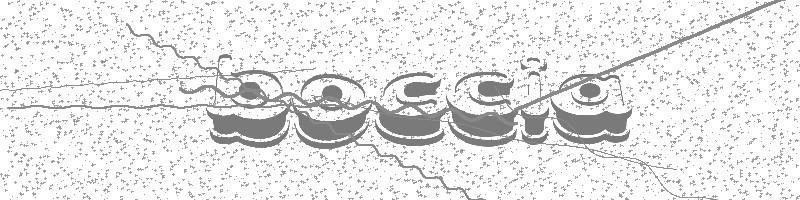a: (551, 72, 632, 146)
b: (204, 53, 293, 151)
c: (445, 71, 519, 148), (374, 71, 445, 146)
i: (518, 57, 549, 146)
o: (291, 72, 372, 151)
